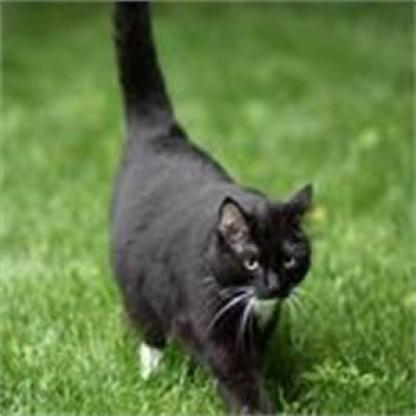cat: (111, 0, 315, 415)
